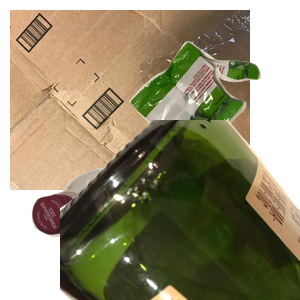cardboard: (10, 10, 250, 190)
glass: (60, 120, 300, 300)
plastic: (29, 166, 183, 300)
trash: (127, 39, 300, 193)
